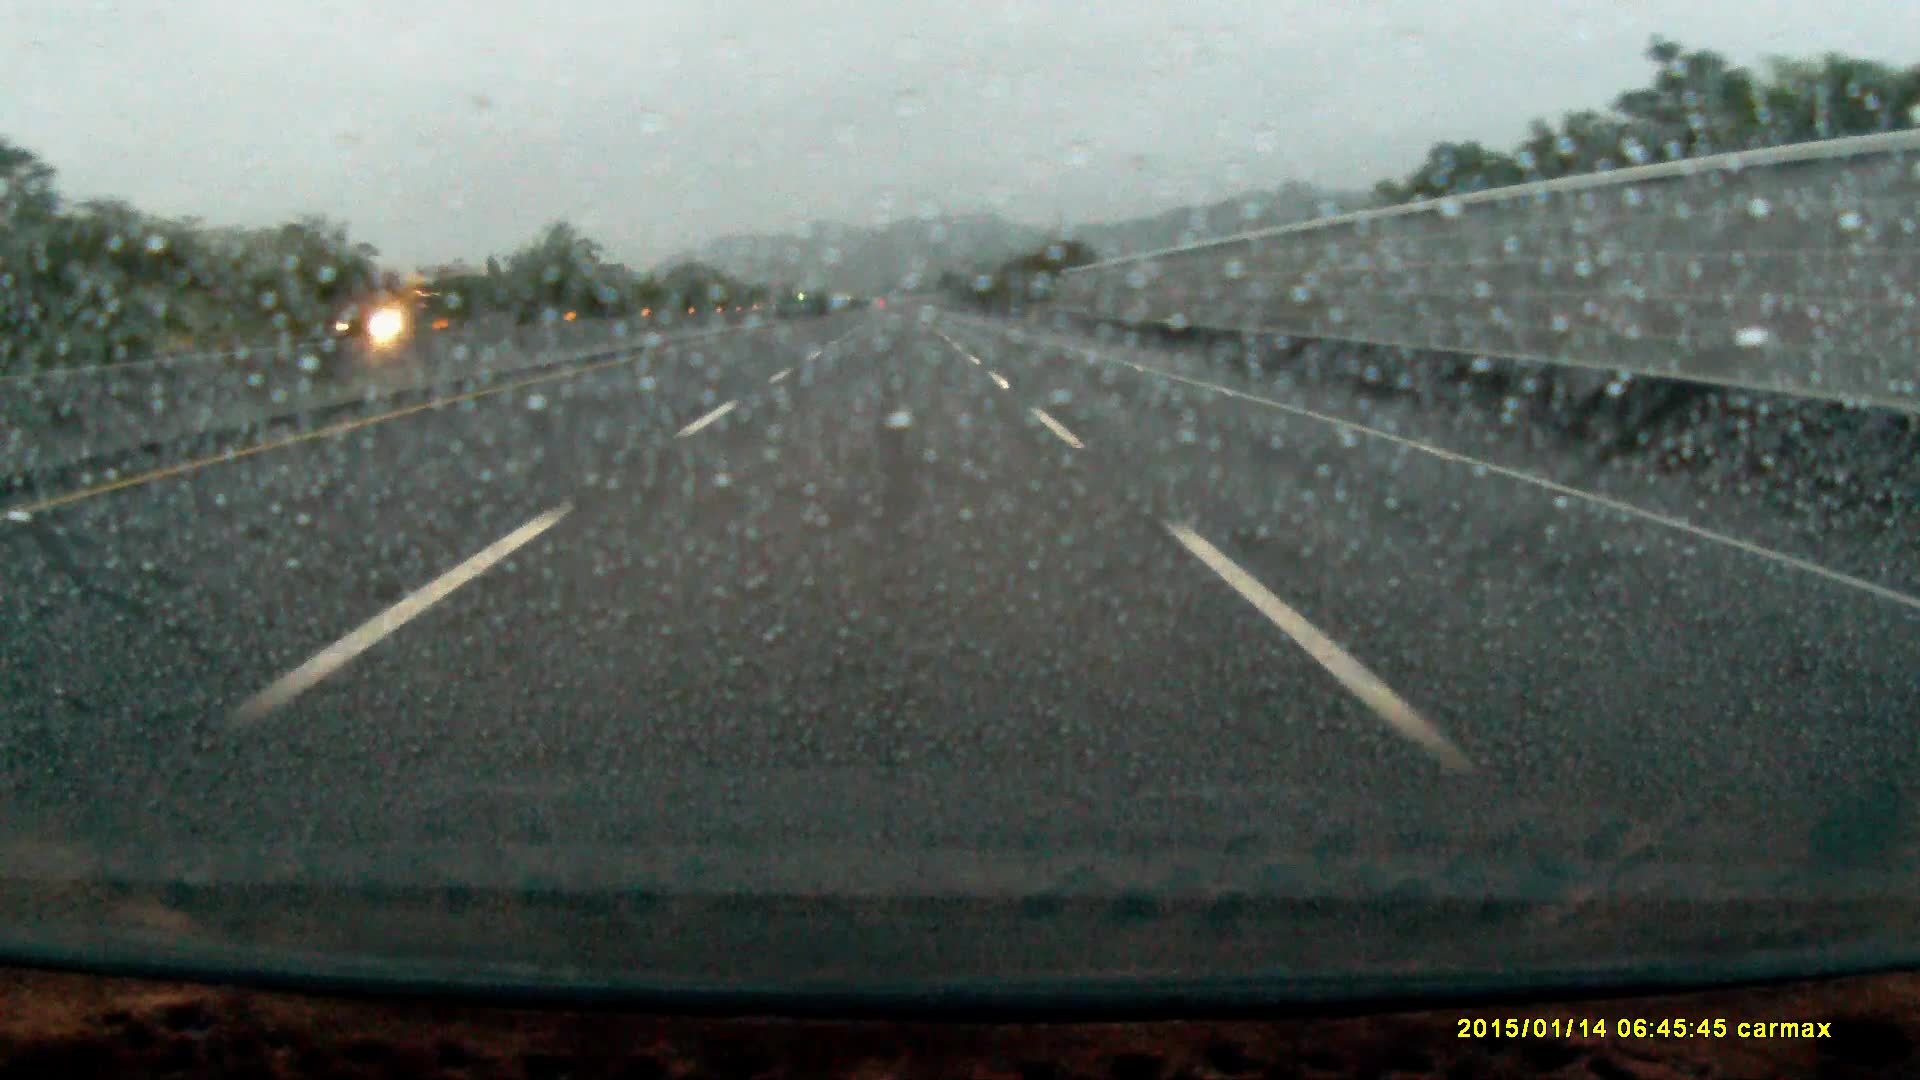vehicle: (367, 266, 471, 344)
